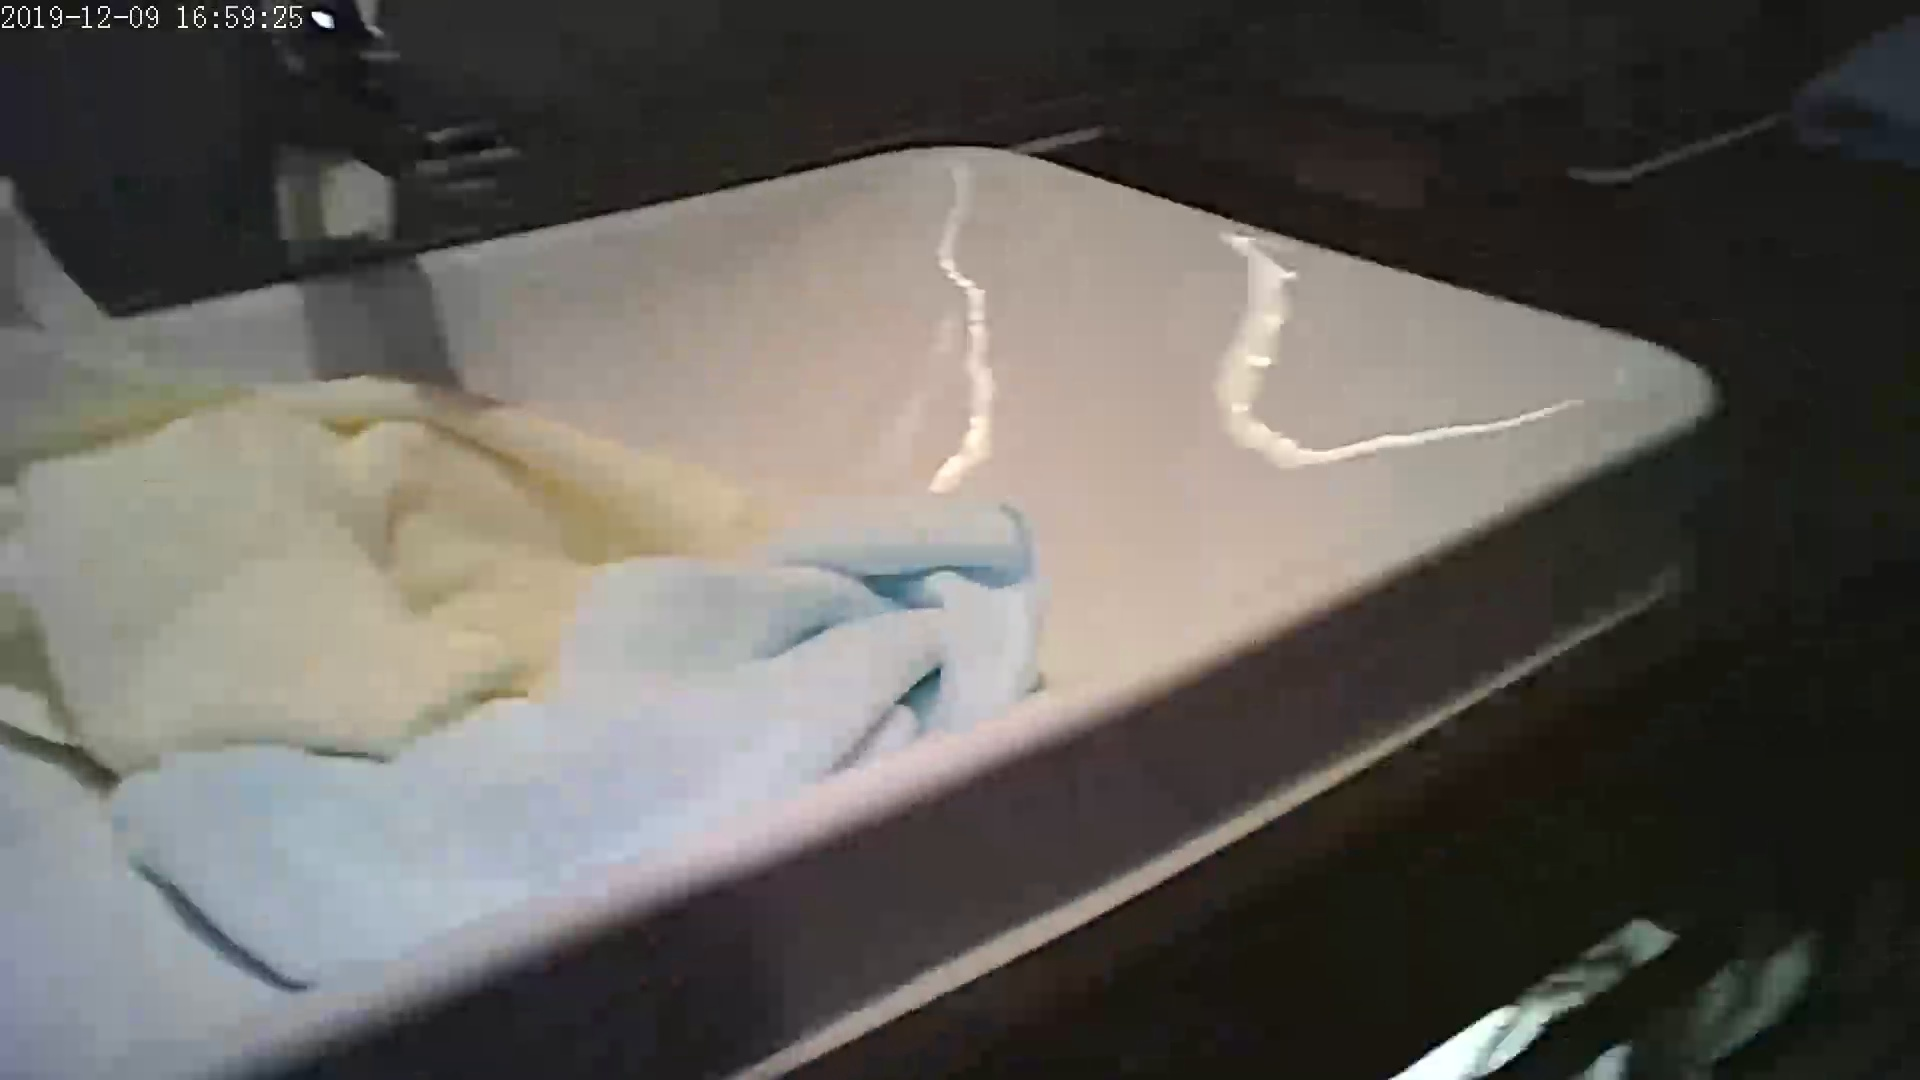bluecloth: (336, 512, 1026, 935)
sink: (13, 22, 1735, 1072)
yellowcloth: (78, 385, 488, 724)
